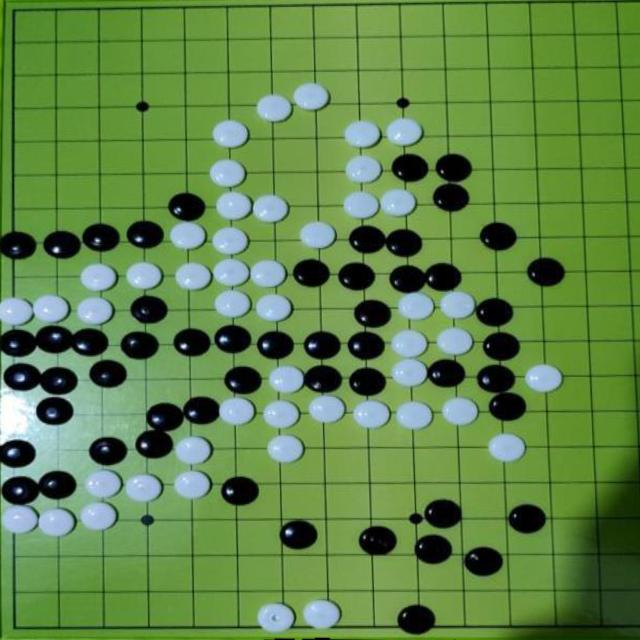blackstone: (464, 546, 504, 577), (476, 297, 514, 328), (38, 471, 77, 501), (36, 396, 75, 426), (145, 402, 184, 432), (40, 366, 79, 396), (120, 331, 160, 360), (281, 519, 317, 551), (358, 526, 396, 556), (508, 504, 546, 534), (89, 436, 127, 466), (424, 499, 462, 529), (415, 534, 453, 564), (136, 429, 174, 459), (489, 392, 527, 422), (527, 257, 565, 287), (478, 364, 516, 394), (349, 367, 387, 397), (292, 258, 330, 288), (338, 262, 376, 292), (432, 182, 470, 212), (36, 324, 74, 354), (388, 264, 426, 294), (391, 153, 429, 183), (398, 604, 434, 635), (221, 476, 258, 506), (3, 362, 40, 392), (72, 328, 109, 358), (435, 153, 472, 183), (428, 359, 466, 388), (90, 360, 128, 389), (257, 330, 295, 359), (182, 396, 220, 425), (130, 295, 168, 324), (304, 365, 342, 394), (43, 230, 81, 259), (126, 220, 164, 249), (82, 223, 120, 252), (303, 331, 341, 360), (168, 192, 206, 221), (482, 332, 520, 361), (0, 439, 36, 469), (425, 262, 461, 292), (1, 476, 38, 505), (215, 325, 252, 354), (225, 366, 262, 395), (348, 331, 385, 360), (480, 222, 517, 251), (348, 225, 385, 254), (1, 328, 36, 358), (386, 229, 422, 258), (173, 329, 210, 357), (353, 300, 390, 328), (0, 232, 36, 260)
whitestone: (79, 501, 118, 531), (76, 296, 115, 326), (38, 507, 76, 537), (488, 433, 526, 463), (352, 400, 390, 430), (174, 470, 211, 500), (1, 505, 38, 535), (85, 469, 122, 499), (303, 599, 340, 629), (33, 294, 70, 324), (125, 473, 163, 502), (266, 435, 304, 464), (308, 395, 346, 424), (524, 364, 562, 393), (175, 262, 213, 291), (390, 329, 428, 358), (212, 258, 250, 287), (258, 603, 294, 633), (396, 401, 433, 430), (441, 398, 478, 427), (175, 436, 212, 465), (214, 290, 251, 319), (80, 264, 117, 293), (439, 291, 476, 320), (386, 117, 423, 146), (218, 398, 256, 426), (390, 359, 428, 387), (436, 327, 474, 355), (125, 262, 163, 290), (169, 222, 207, 250), (216, 191, 252, 220), (212, 227, 248, 256), (255, 294, 292, 322), (381, 188, 416, 217), (253, 195, 289, 223), (300, 221, 336, 249), (251, 260, 287, 288), (343, 192, 379, 220), (210, 159, 246, 187), (212, 120, 248, 148), (345, 156, 381, 184), (262, 401, 299, 428), (268, 365, 303, 393), (398, 292, 433, 320), (256, 94, 291, 122), (344, 120, 379, 148), (294, 82, 329, 110), (0, 297, 33, 326)
